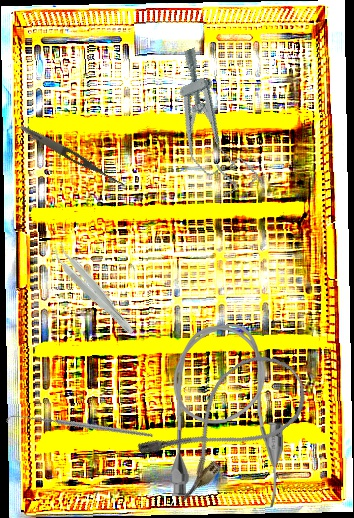Cannula: (133, 339, 319, 507), (168, 323, 285, 509)
Dressing Forceps: (18, 122, 128, 190)
Hook Surgical: (4, 357, 155, 499)
Speculum: (152, 42, 263, 205)
Tissue Forceps: (47, 239, 141, 339)
